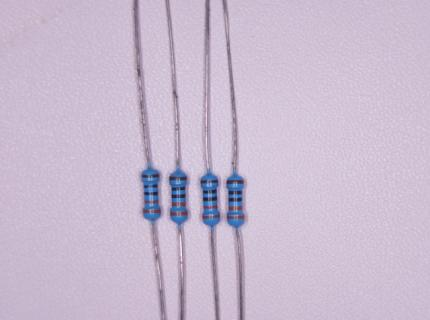Black band: (172, 194, 186, 198), (145, 192, 158, 196), (145, 184, 158, 188), (172, 187, 185, 191), (203, 190, 216, 194), (204, 197, 217, 201), (229, 198, 242, 202), (229, 191, 242, 195)
Brown band: (227, 180, 244, 184), (170, 177, 187, 181), (201, 180, 218, 183), (142, 175, 159, 177)
Orange band: (143, 209, 161, 213), (171, 211, 188, 215), (203, 215, 219, 219), (144, 200, 158, 204), (204, 205, 218, 209), (229, 206, 242, 210), (227, 216, 244, 219), (172, 203, 185, 206)
